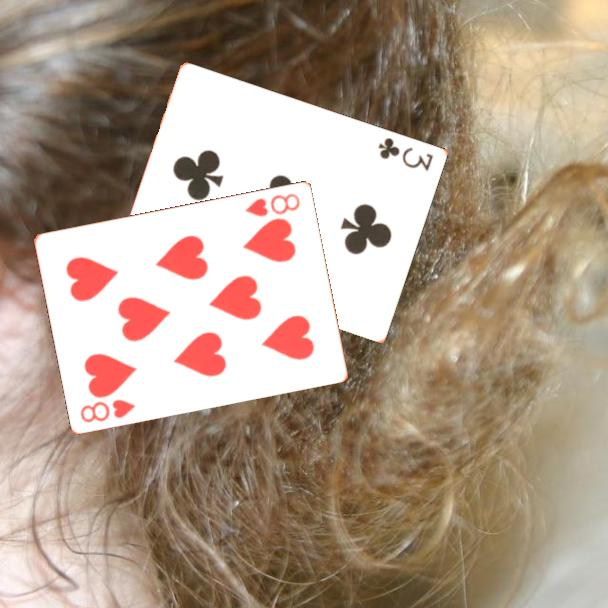c03: (375, 134, 437, 174)
h08: (242, 189, 303, 219), (77, 395, 138, 425)
